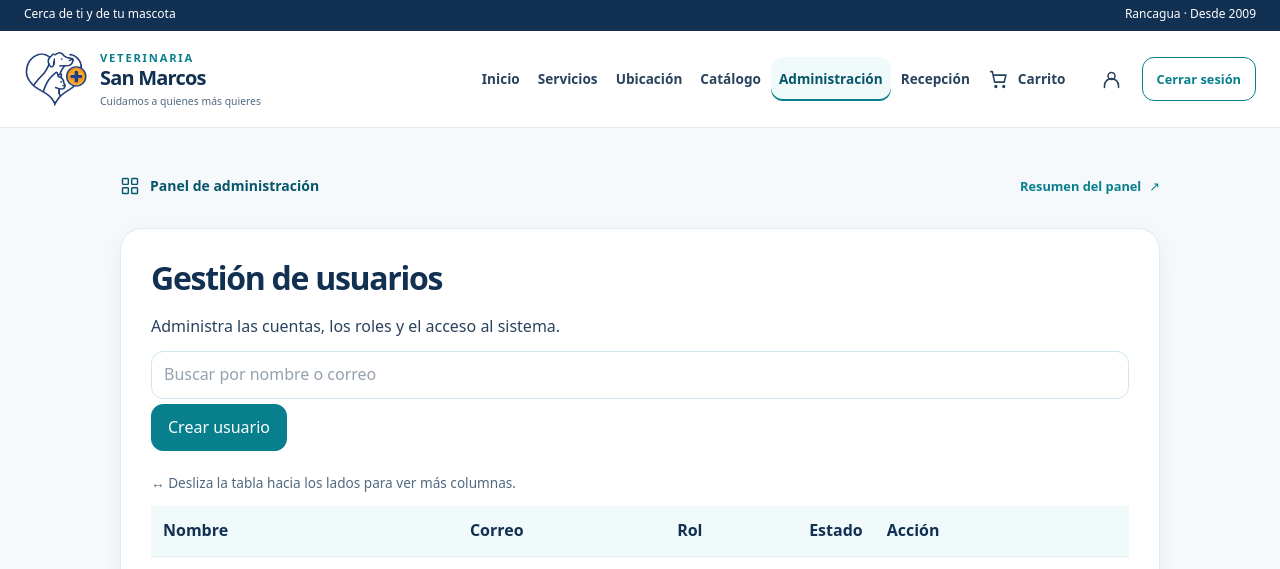
Test case: Componentes e interacciones del módulo Daniel › filtra usuarios en administración
The width and height of the screenshot is (1280, 569).
Type "recepcion@gmail.com" into the field with placeholder "Buscar por nombre o correo".
click(640, 375); type("recepcion@gmail.com")  # box [151,351,1129,399]
(page scrolled)
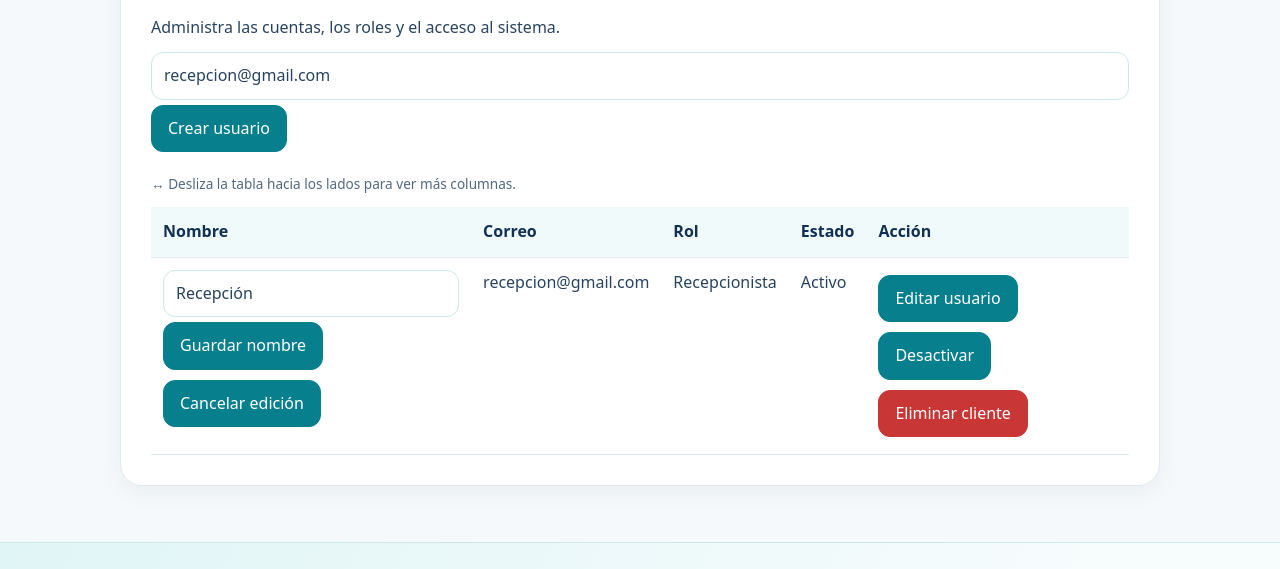
Expected: the text "recepcion@gmail.com" is shown, [471,257,661,455]
Now the number of rows is 2, box [151,207,1129,257]; [151,257,1129,455]
